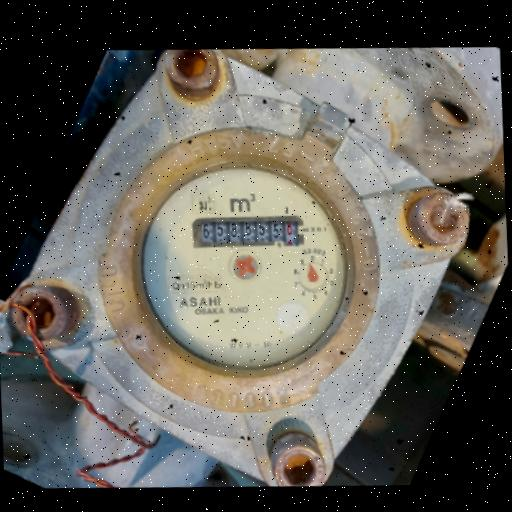5: (215, 221, 226, 242), (257, 220, 268, 241), (271, 220, 282, 240)
6: (200, 221, 213, 243)
8: (285, 220, 295, 246), (243, 220, 254, 240), (230, 221, 240, 242)
border_water_meter_number: (191, 210, 307, 253)
